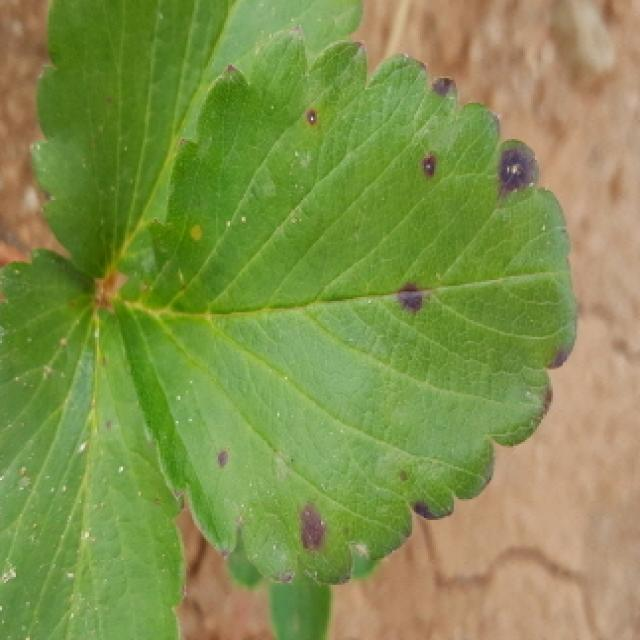Leaf Spot: (106, 25, 580, 586), (0, 248, 186, 640)
